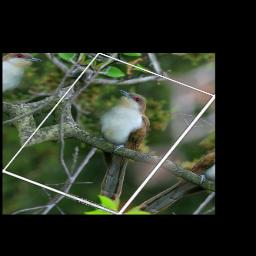Cuckoo: (42, 87, 193, 210)
